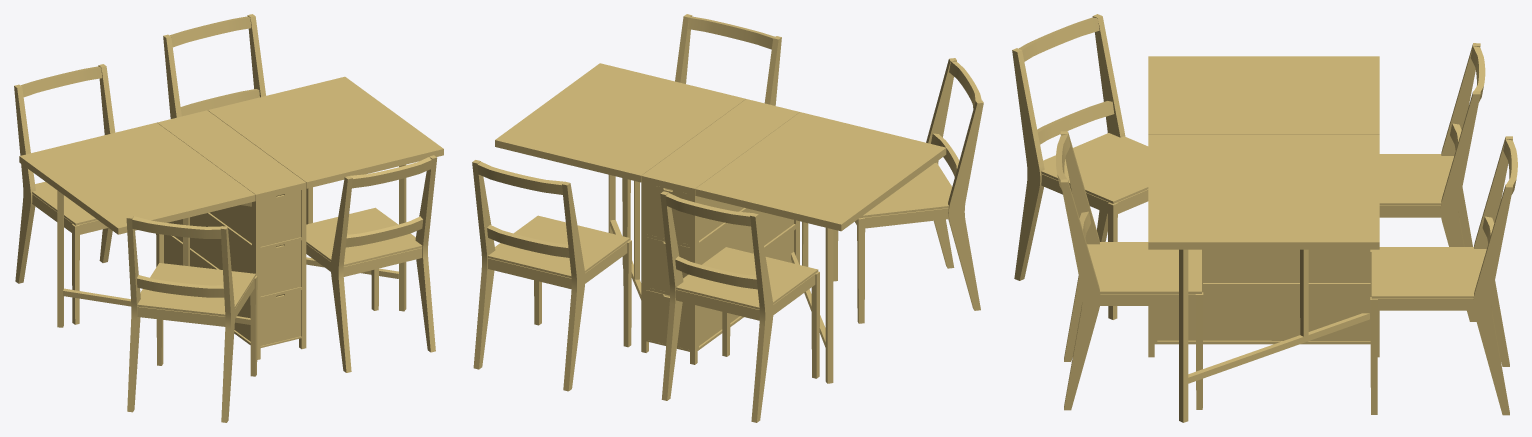
The model's file is IKEA-Gateleg_table_and_Bertil_Chairs-3D.obj.
The picture shows the model from 3 angles, left to right: view 1: azimuth 30°, elevation 25°; view 2: azimuth 150°, elevation 25°; view 3: azimuth 270°, elevation 25°; orthographic projection. The views are drawn at different scales.
Visible parts, largest first — view 1: Object02, Line05, Line02, Line04, Line03; view 2: Object02, Line03, Line04, Line05, Line02; view 3: Object02, Line03, Line05, Line02, Line04.
Part boxes in pixels (<box>): Object02: <box>19,76,443,359</box>; Line05: <box>126,215,257,422</box>; Line02: <box>306,155,437,372</box>; Line04: <box>14,64,163,324</box>; Line03: <box>163,14,312,224</box>; Object02: <box>495,63,946,383</box>; Line03: <box>472,160,631,391</box>; Line04: <box>660,191,819,422</box>; Line05: <box>833,58,983,323</box>; Line02: <box>622,14,781,268</box>; Object02: <box>1148,56,1379,422</box>; Line03: <box>1370,136,1517,415</box>; Line05: <box>1012,14,1148,319</box>; Line02: <box>1056,131,1203,410</box>; Line04: <box>1379,43,1485,321</box>.
Size of the model in its own units: 1586 by 872 by 1750.
